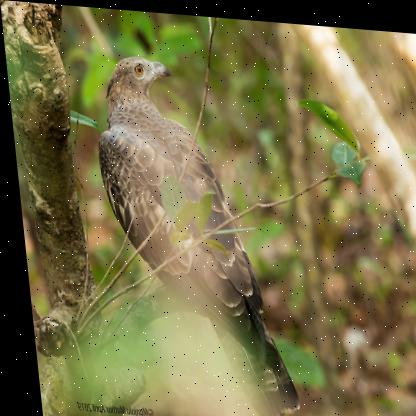Burung: (83, 51, 303, 415)
